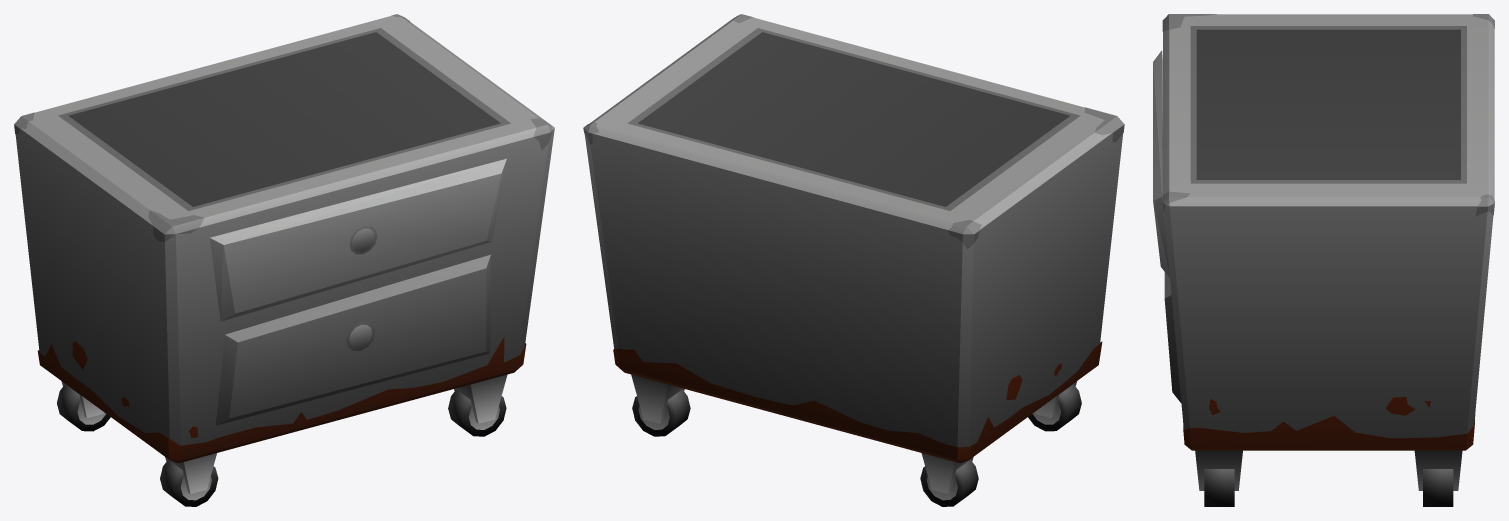
The model's file is Rolling Cart grey.fbx.
The picture shows the model from 3 angles, left to right: view 1: azimuth 30°, elevation 25°; view 2: azimuth 150°, elevation 25°; view 3: azimuth 270°, elevation 25°; orthographic projection. The views are drawn at different scales.
Parts seen in each view (by area): view 1: Cube.005; view 2: Cube.005; view 3: Cube.005.
Part boxes in pixels (box(x1,y1,x2,y2)): Cube.005: box(14, 14, 554, 506); Cube.005: box(583, 14, 1124, 506); Cube.005: box(1153, 14, 1494, 506).
Bounding box in the file's own units: 133 × 102 × 95.
